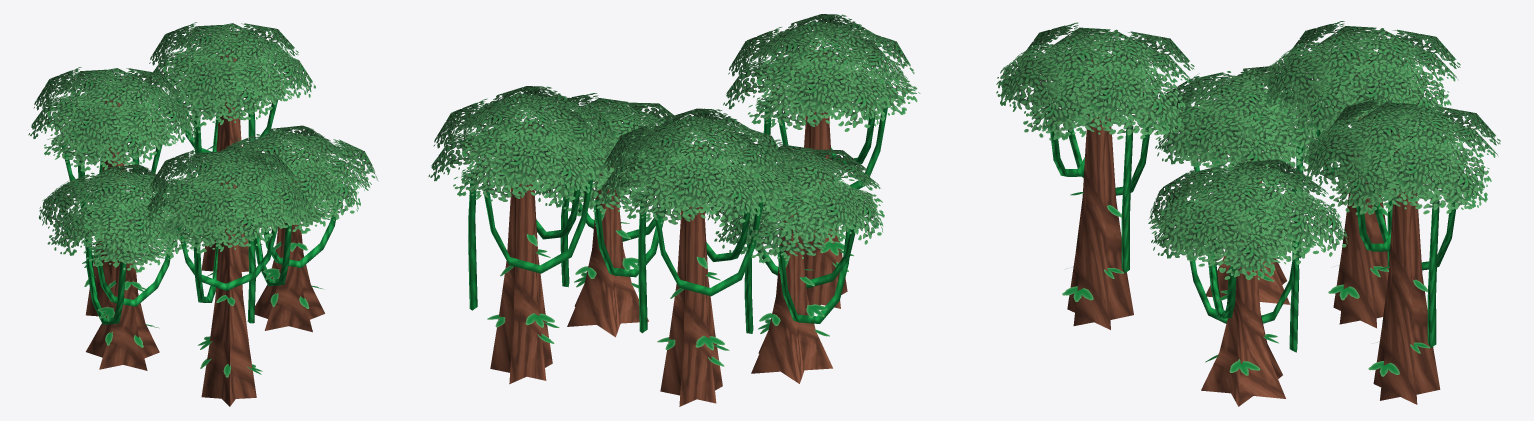
File: Jungle-trees-0.fbx
3 views of the same model, side by side, from view 1: azimuth 30°, elevation 25°; view 2: azimuth 150°, elevation 25°; view 3: azimuth 270°, elevation 25° (orthographic). The views are drawn at different scales.
Parts seen in each view (by area): view 1: JungleTrees-0; view 2: JungleTrees-0; view 3: JungleTrees-0.
Part boxes in pixels (bbox=[...]): JungleTrees-0: bbox=[28, 22, 378, 406]; JungleTrees-0: bbox=[428, 14, 920, 406]; JungleTrees-0: bbox=[996, 21, 1500, 406].
Bounding box in the file's own units: 531 × 448 × 302.
